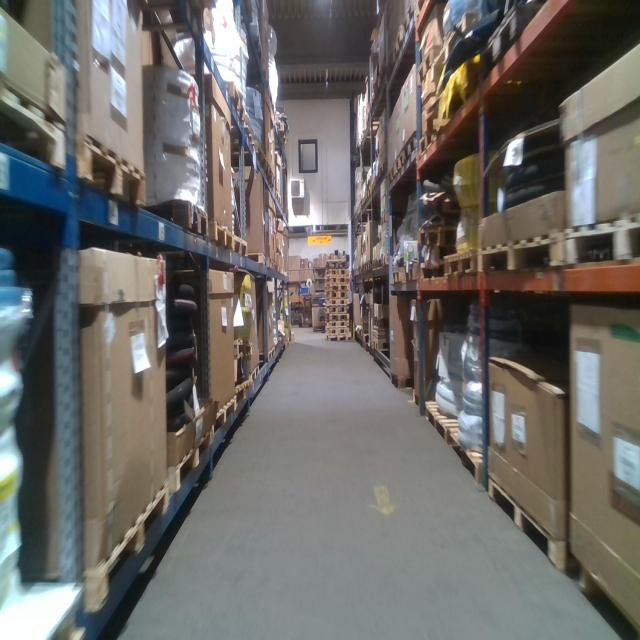pallet: (29, 469, 171, 612), (487, 470, 570, 578), (1, 74, 71, 177), (70, 120, 146, 212), (569, 541, 635, 634), (163, 408, 214, 496), (480, 234, 565, 280), (563, 216, 614, 274), (146, 196, 210, 240), (423, 396, 478, 443), (450, 428, 490, 488), (444, 243, 481, 290), (206, 386, 238, 440), (220, 76, 247, 128), (207, 212, 234, 251), (416, 222, 457, 243), (418, 256, 448, 283), (421, 124, 439, 162), (231, 332, 253, 360), (390, 371, 416, 393), (233, 226, 247, 261), (257, 343, 277, 366), (235, 373, 251, 399), (248, 246, 265, 269), (392, 262, 407, 288), (324, 268, 348, 284), (403, 134, 415, 165), (250, 360, 260, 396), (255, 138, 265, 174), (405, 259, 418, 286), (247, 114, 255, 155), (386, 162, 396, 191), (264, 159, 273, 191), (395, 151, 404, 183), (373, 336, 389, 352), (378, 154, 388, 178), (326, 258, 348, 268), (324, 284, 348, 292), (325, 299, 348, 307), (325, 312, 348, 320), (325, 327, 348, 335), (324, 292, 348, 299), (325, 335, 349, 342), (325, 320, 348, 327), (263, 255, 273, 271), (325, 307, 348, 312), (373, 317, 379, 331), (272, 260, 278, 273), (375, 258, 383, 266), (372, 175, 376, 190), (367, 184, 371, 198), (365, 261, 371, 270)
pallet_truck: (297, 277, 311, 329)
